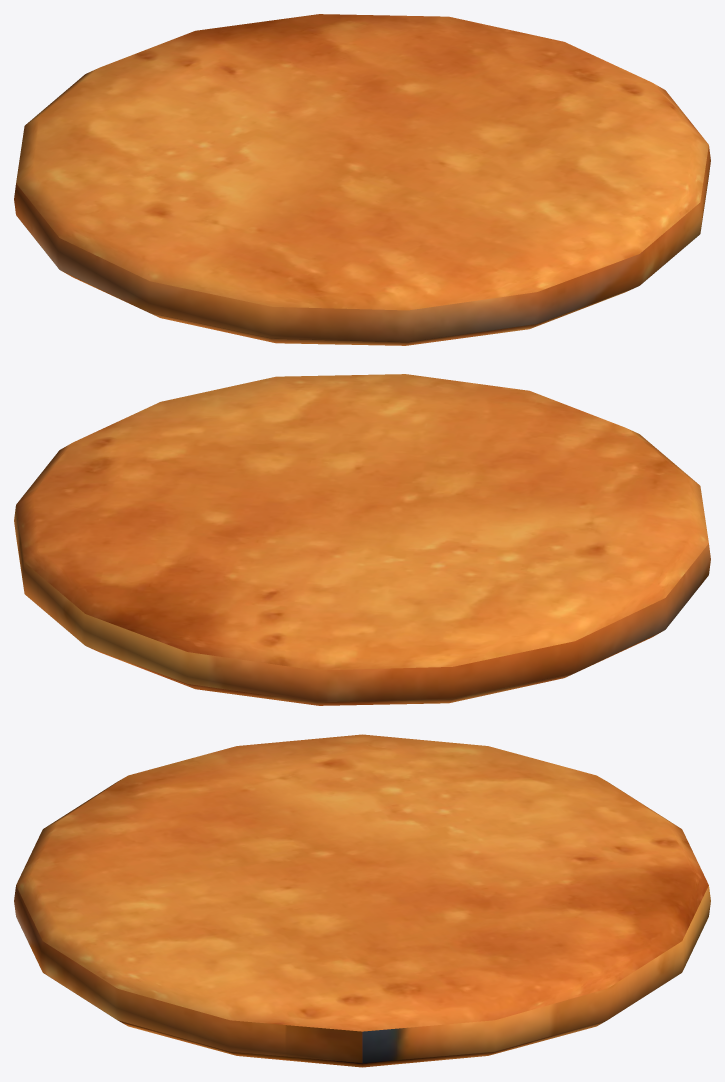
The model's file is sopaipilla.fbx.
3 renders of one model, top to bottom at view 1: azimuth 30°, elevation 25°; view 2: azimuth 150°, elevation 25°; view 3: azimuth 270°, elevation 25°, orthographic.
Parts seen in each view (by area): view 1: SOPAIPILLA; view 2: SOPAIPILLA; view 3: SOPAIPILLA.
Part boxes in pixels (bbox=[...]): SOPAIPILLA: bbox=[14, 14, 710, 345]; SOPAIPILLA: bbox=[14, 374, 710, 705]; SOPAIPILLA: bbox=[14, 734, 710, 1067].
Size of the model in its own units: 180 by 19.56 by 180.
